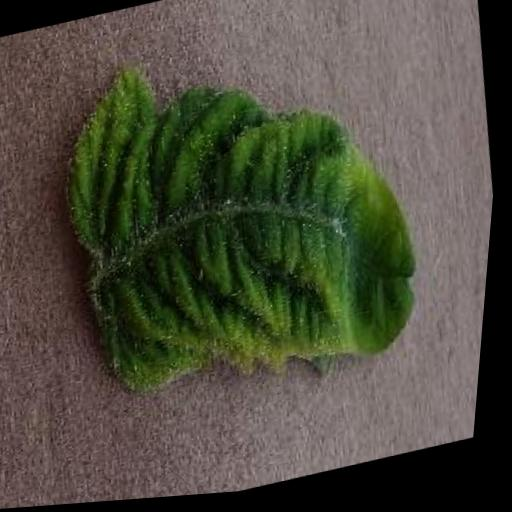Yellow Leaf Curl Virus: (35, 6, 453, 430)
